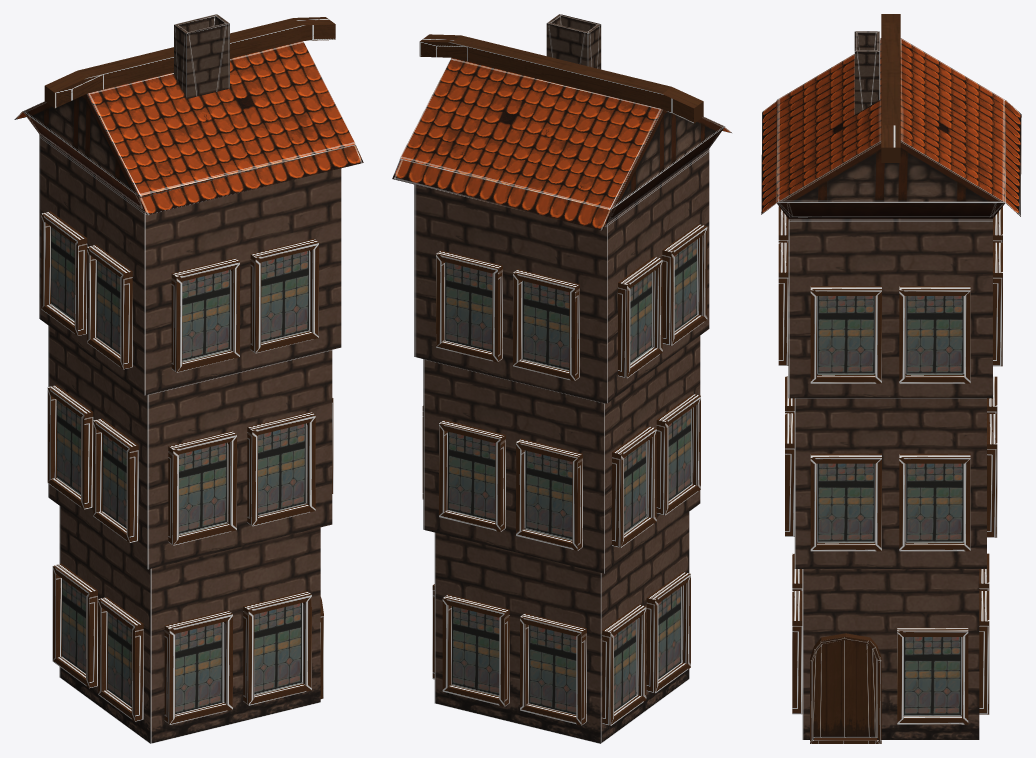
File: Tower_5.fbx
3 renders of one model, left to right at view 1: azimuth 30°, elevation 25°; view 2: azimuth 150°, elevation 25°; view 3: azimuth 270°, elevation 25°, orthographic. The views are drawn at different scales.
Parts seen in each view (by area): view 1: Cube.2; view 2: Cube.2; view 3: Cube.2.
Boxes of the visible parts, <box> form: Cube.2: <box>14,14,363,743</box>; Cube.2: <box>392,14,731,743</box>; Cube.2: <box>761,14,1021,743</box>.
Bounding box in the file's own units: 329 × 756 × 270.
Materials: 1 (1 with a texture image).
